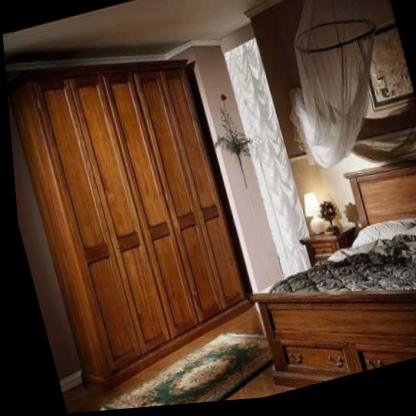Bed: (218, 154, 416, 400)
Closet: (3, 29, 260, 399)
